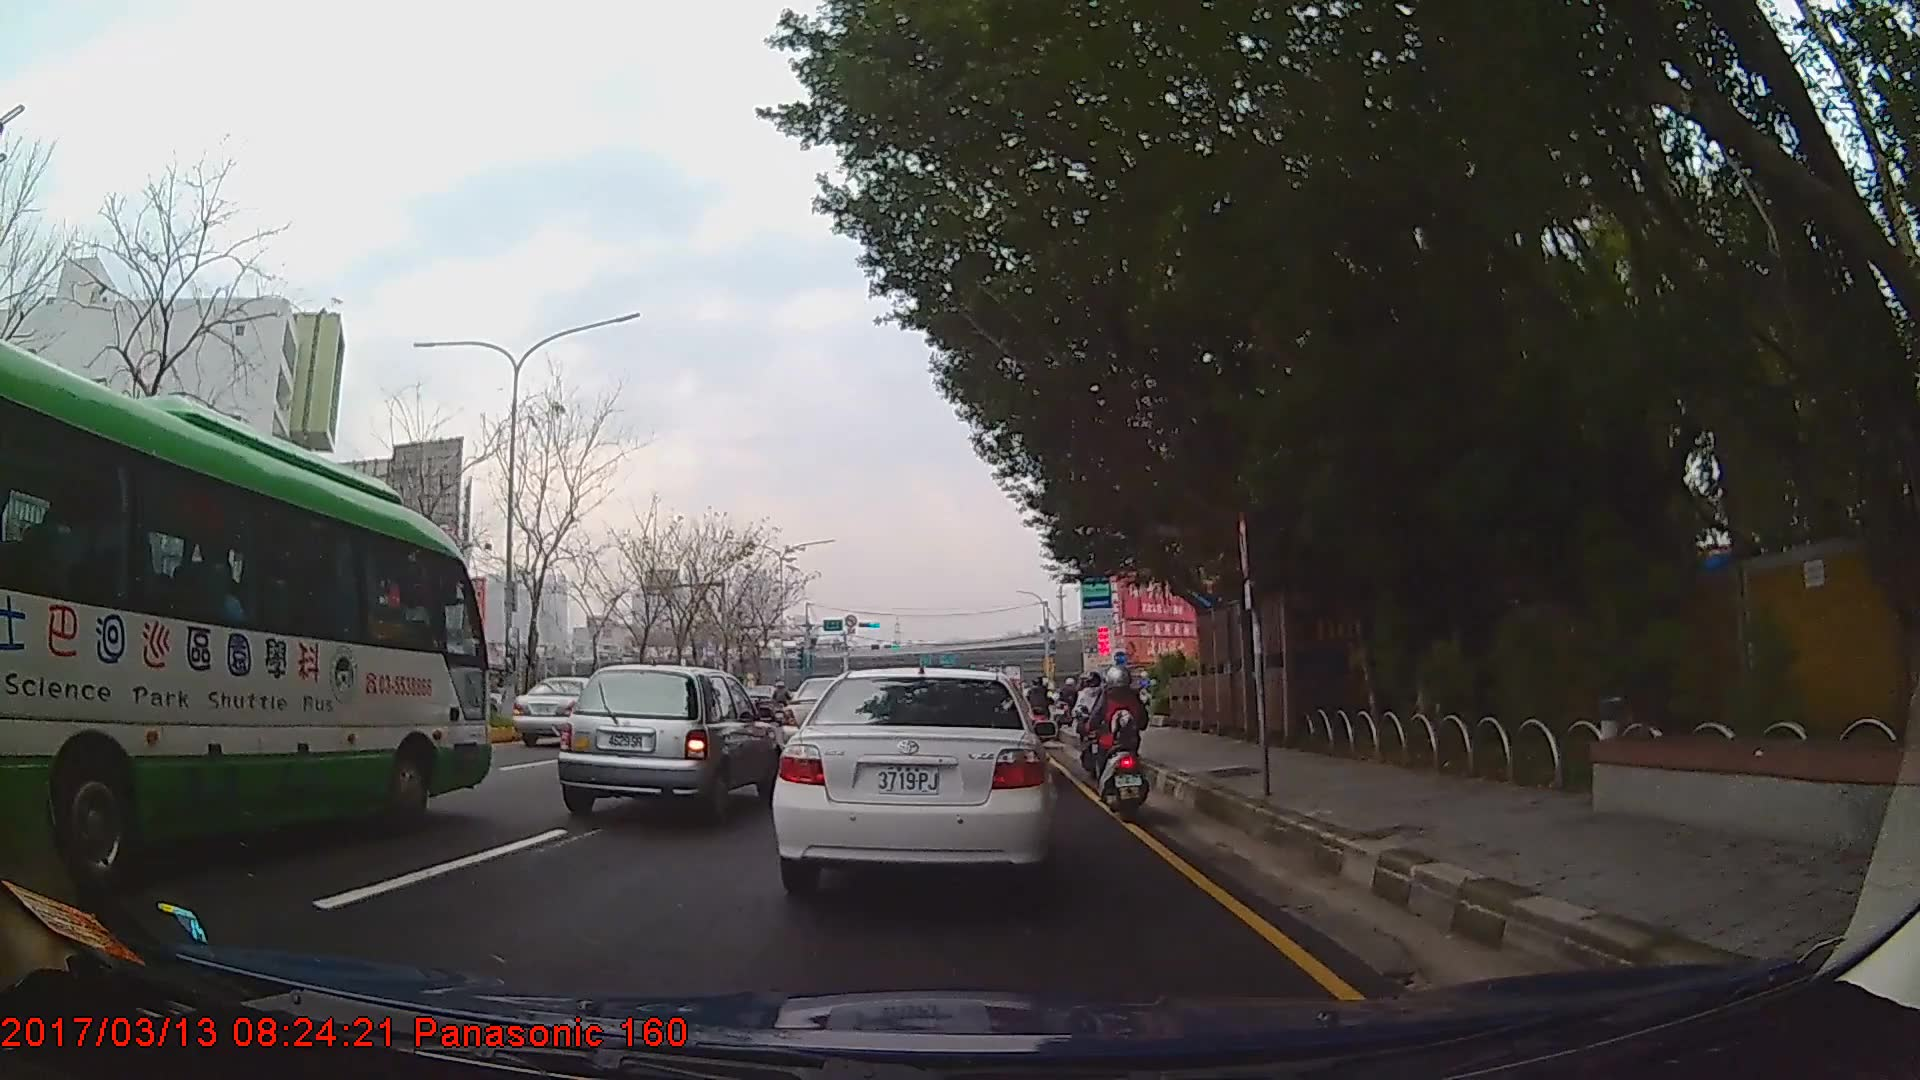rider: (1092, 661, 1153, 818), (1072, 672, 1117, 784), (1028, 676, 1054, 734)
vehicle: (0, 335, 490, 910), (771, 666, 1056, 896), (555, 664, 781, 824), (511, 675, 609, 746), (738, 682, 789, 718)
